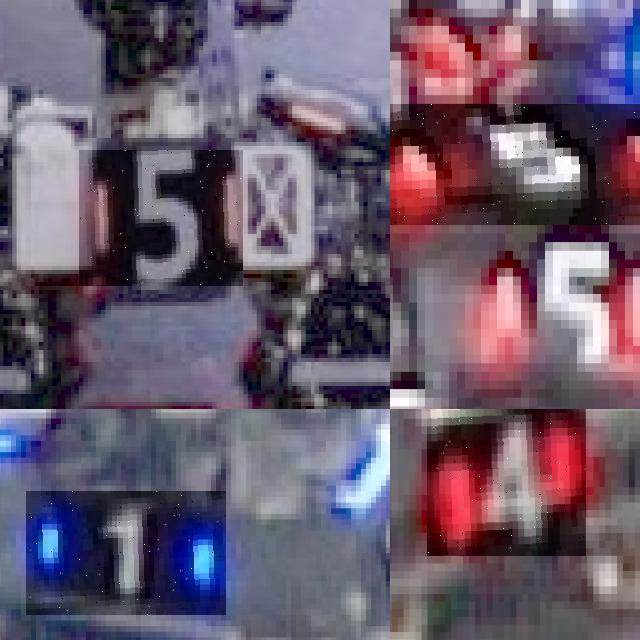B1: (26, 491, 226, 615)
R4: (427, 409, 587, 555)
R5: (390, 104, 640, 225), (79, 150, 243, 286), (481, 233, 640, 371)
